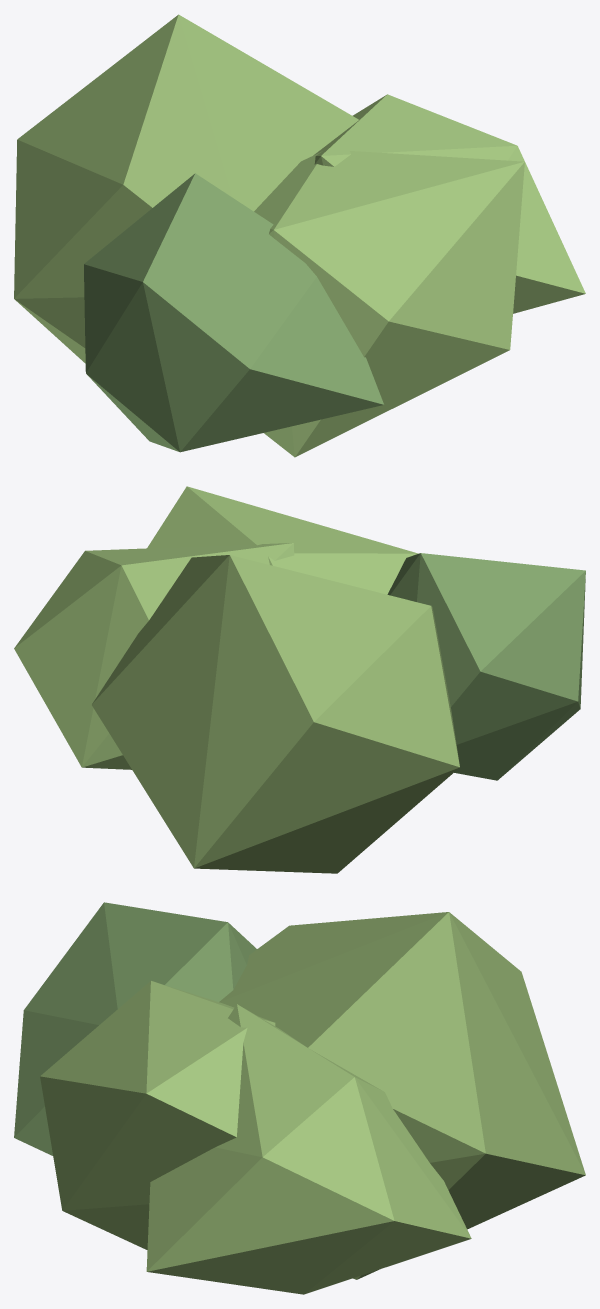
File: bush_gen2.glb
3 views of the same model, one above another, from view 1: azimuth 30°, elevation 25°; view 2: azimuth 150°, elevation 25°; view 3: azimuth 270°, elevation 25° (orthographic). The views are drawn at different scales.
Parts seen in each view (by area): view 1: hull; view 2: hull; view 3: hull.
Part boxes in pixels (bbox=[...]): hull: bbox=[14, 14, 585, 457]; hull: bbox=[14, 486, 585, 873]; hull: bbox=[14, 902, 585, 1294].
Size of the model in its own units: 1.89 by 1.24 by 1.91.
